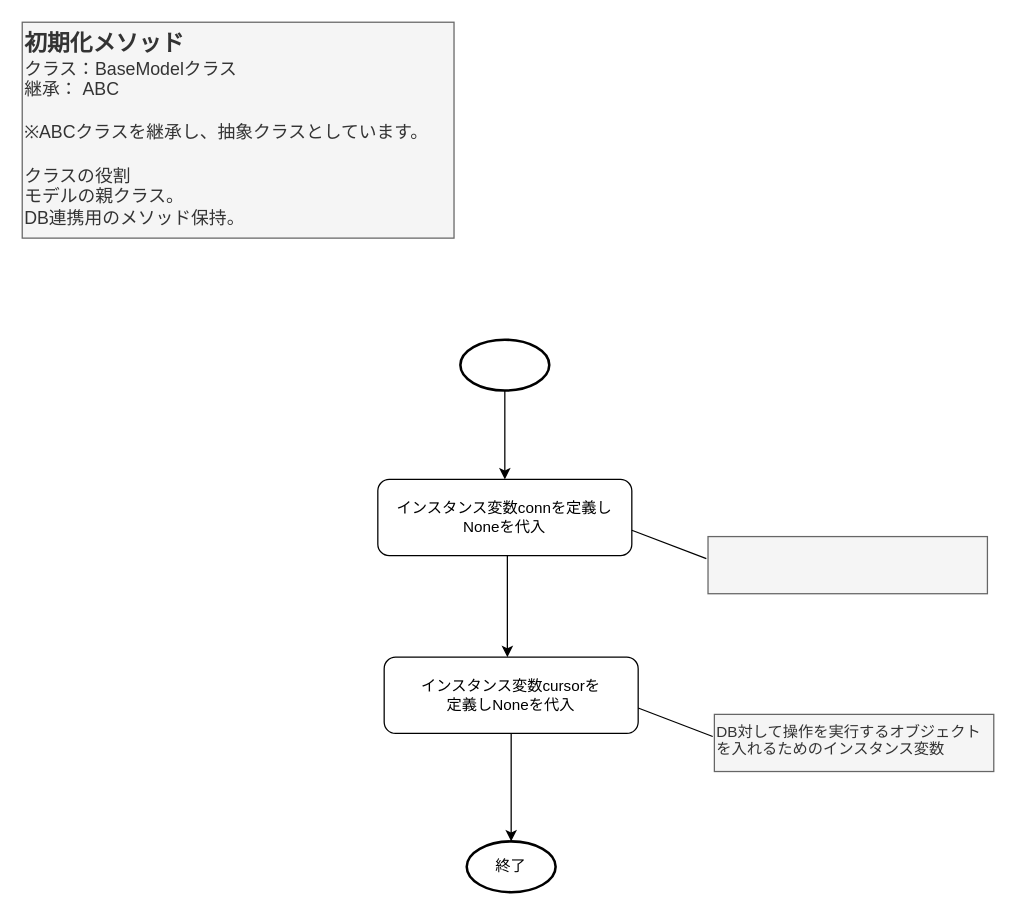
Some shapes in this 1016 by 916 pixel diagram are drawn without their labels. The centre of each missing label's shape, as x and y in pixels:
"DB接続用オブジェクトを入れるための インスタンス変数" belongs at pixel 847 564.
"開始" belongs at pixel 504 364.
